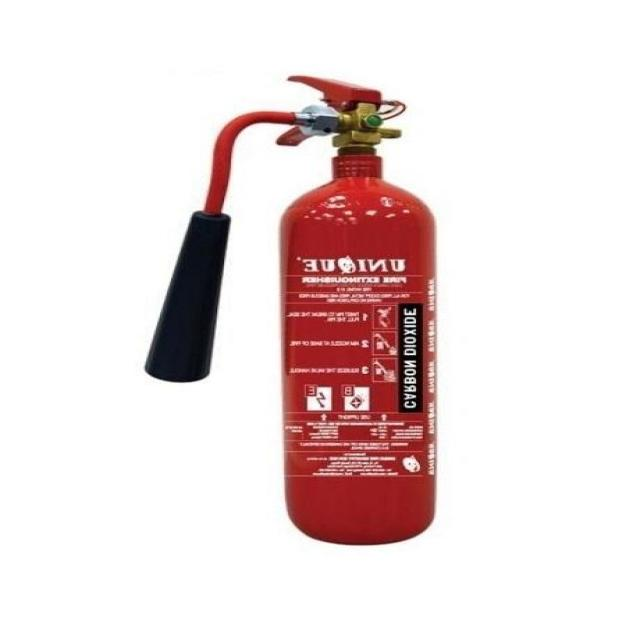fire_extinguisher: (130, 69, 454, 550)
